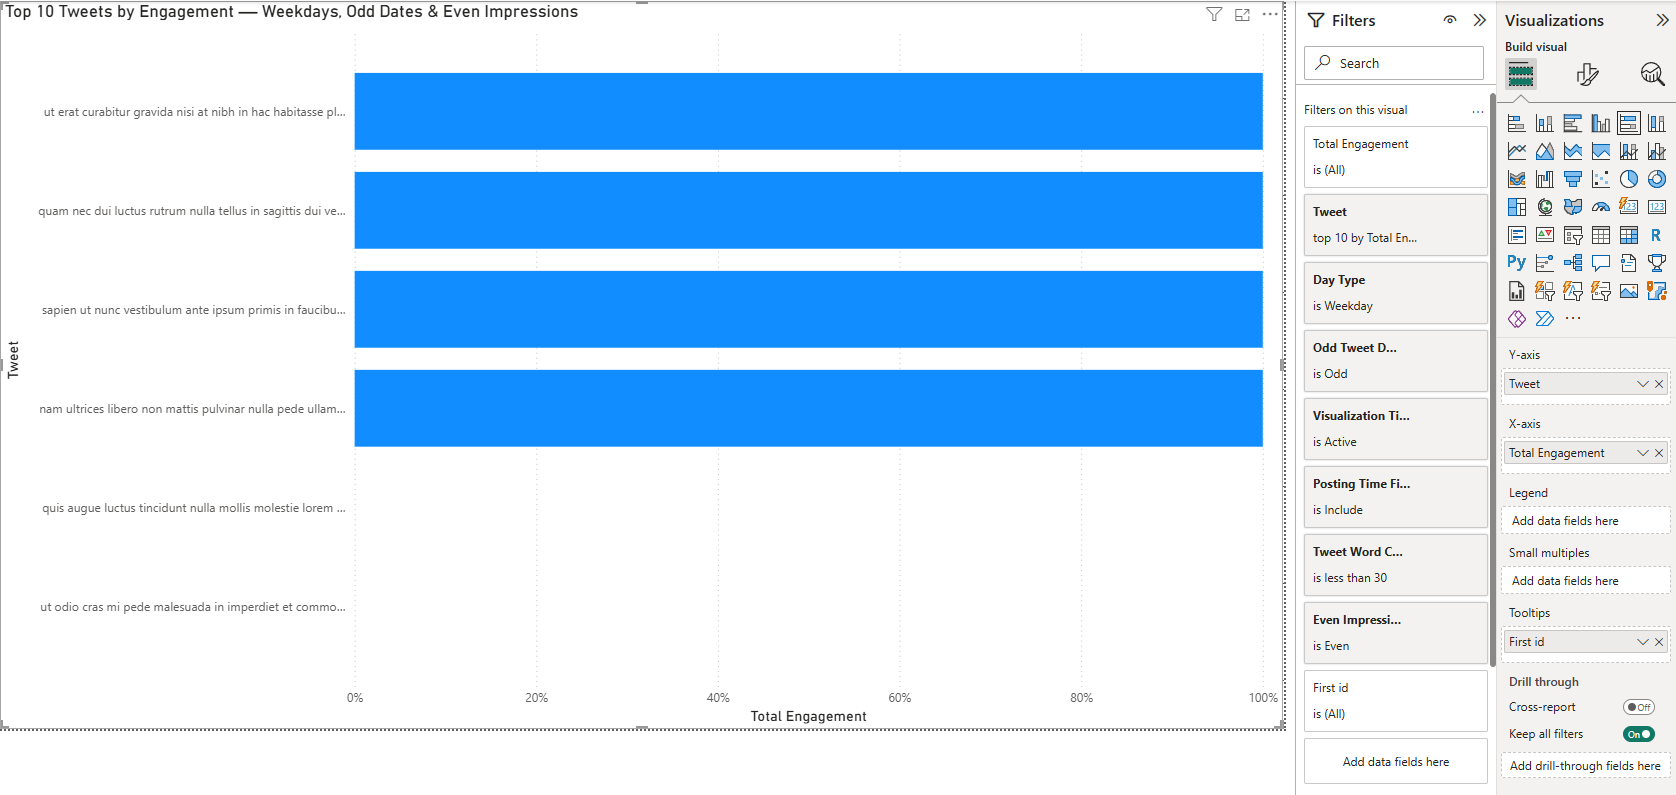

The page's visual inventory and layout, read from the dashboard file:
{"tool":"powerbi","page":{"name":"Task 6","canvas":[1280,720],"ordinal":5},"visuals":[{"type":"hundredPercentStackedBarChart","title":"Top 10 Tweets by Engagement — Weekdays, Odd Dates & Even Impressions","fields":{"Y":["SocialMedia (1).Total Engagement"],"Category":["SocialMedia (1).Tweet"]},"box":[9.9,0,1269.8,720.5],"z":0}]}

Visuals, with their boxes on the page's 1280x720 design canvas (x1, y1, x2, y2). These are canvas units, not pixel positions in the 1676x795 screenshot, which may show the page scaled, cropped or inside an application window:
"Top 10 Tweets by Engagement — Weekdays, Odd Dates & Even Impressions" hundredPercentStackedBarChart: Rect(10, 0, 1280, 720)
